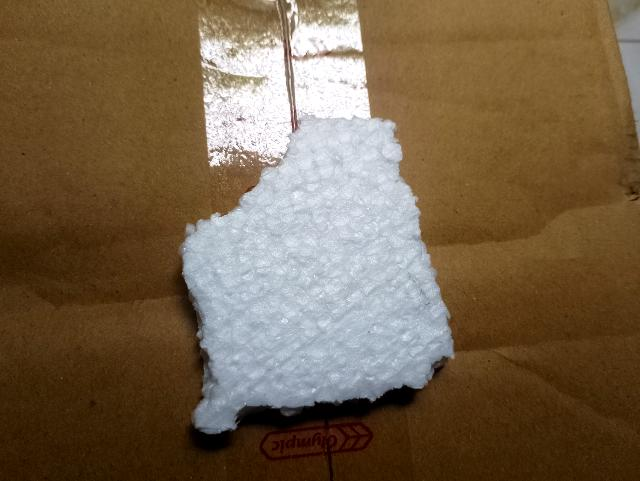cocksheet: (196, 111, 461, 393)
